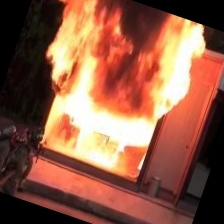fire: (0, 0, 224, 209)
